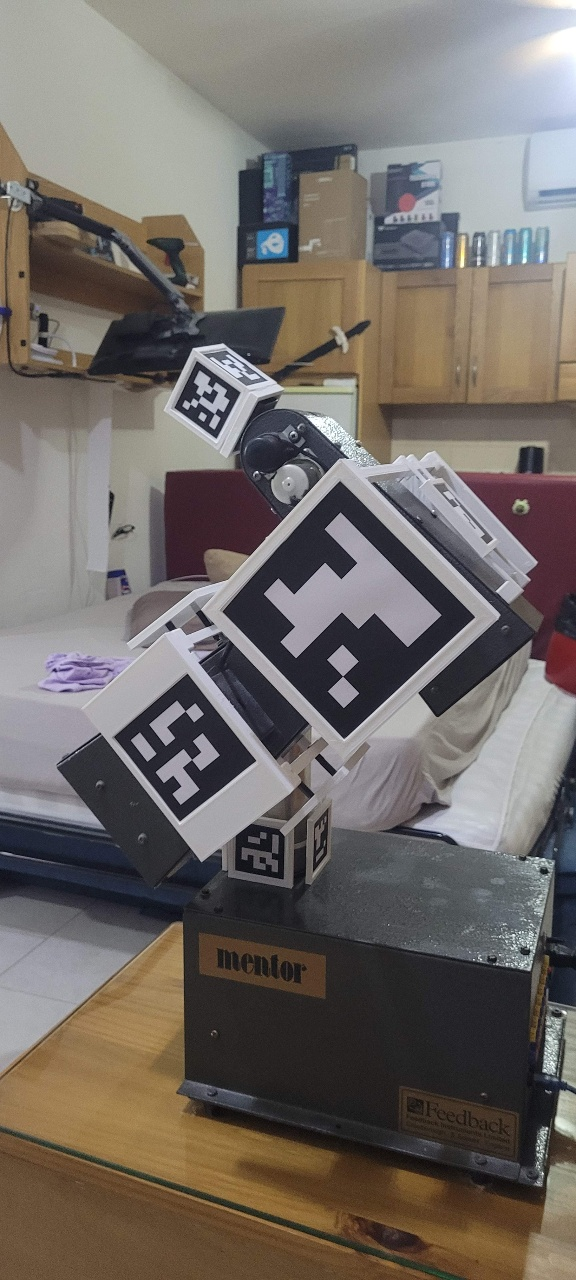Robot: (55, 343, 547, 894)
